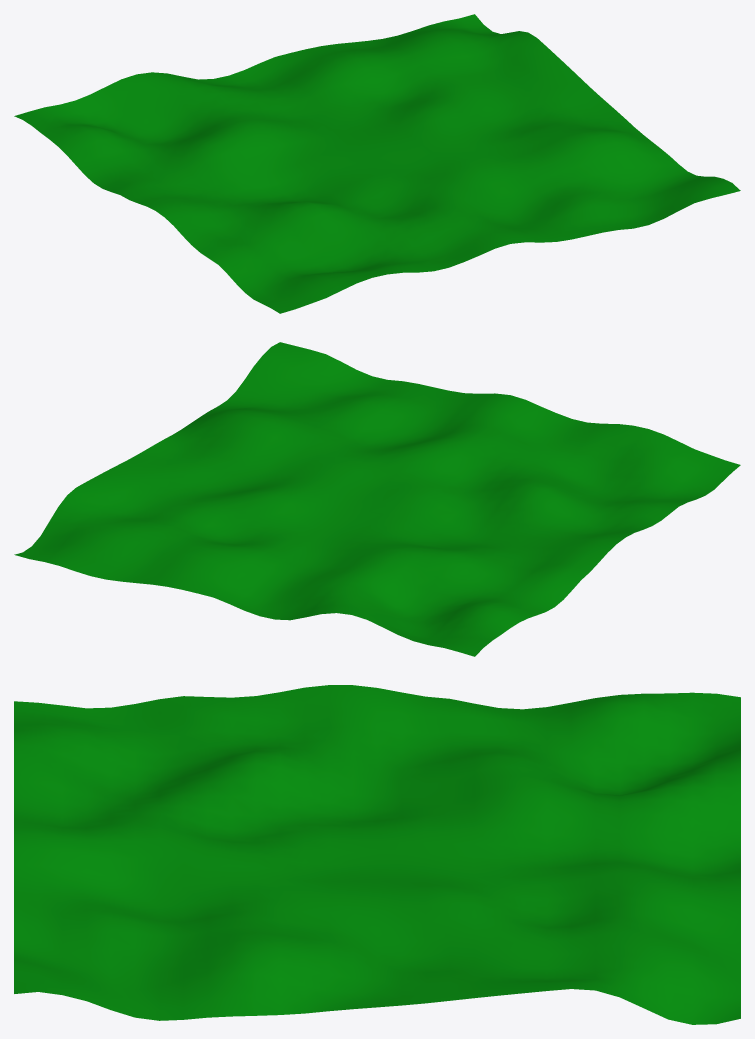
The model's file is terrain.fbx.
3 renders of one model, top to bottom at view 1: azimuth 30°, elevation 25°; view 2: azimuth 150°, elevation 25°; view 3: azimuth 270°, elevation 25°, orthographic. The views are drawn at different scales.
Visible parts, largest first — view 1: Terrain; view 2: Terrain; view 3: Terrain.
Part boxes in pixels (x1,y1,x2,y2): Terrain: (14,14,740,313); Terrain: (14,342,740,656); Terrain: (14,685,740,1024).
Bounding box in the file's own units: 3000 × 172 × 3000.
